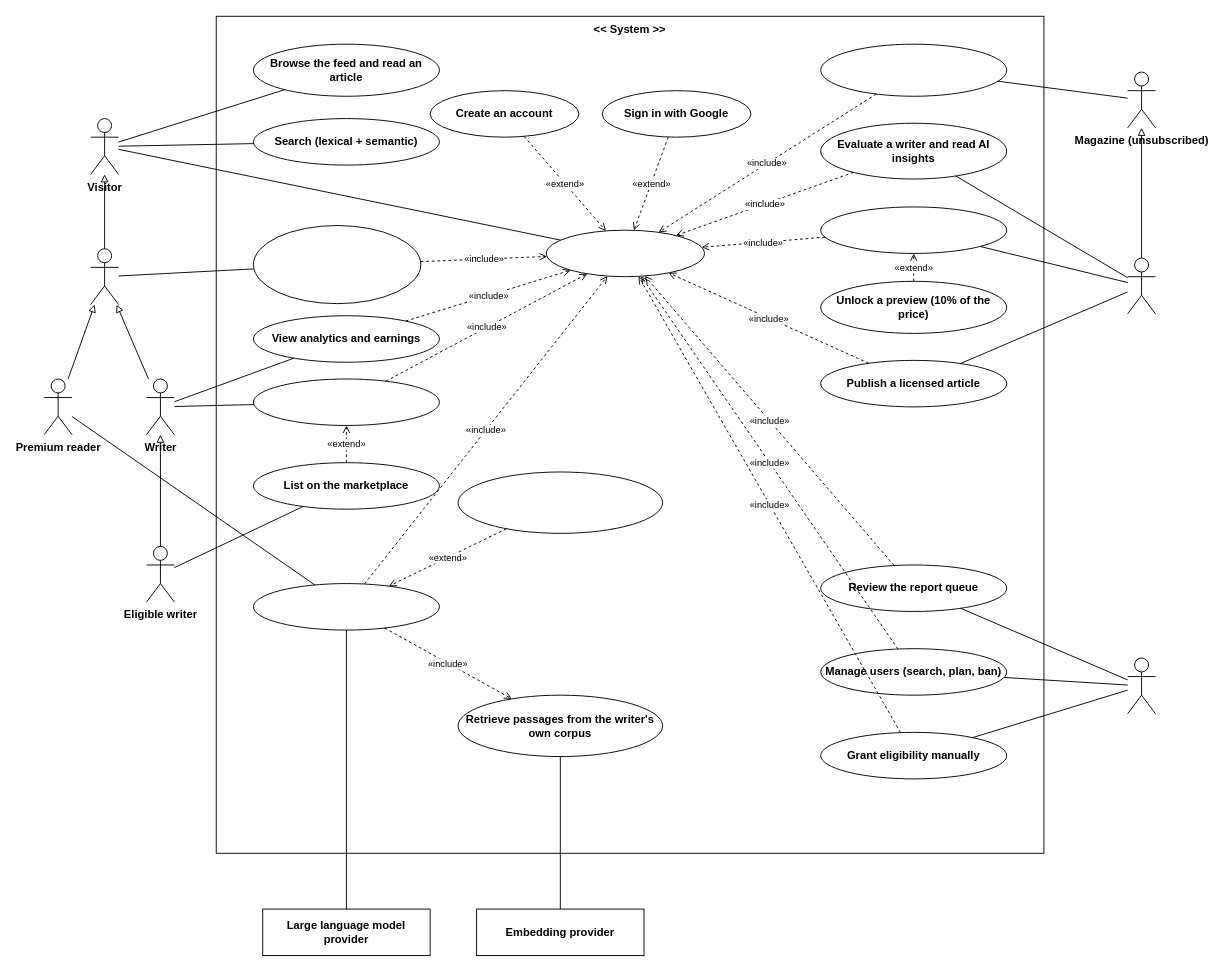
The diagram is 1225 pixels wide and 972 high, and some of its shapes have lost their labels. Here are the shapes that lost their labels. From the top down, the box of each, then its label:
(820, 43, 1007, 96): Manage subscription and credits
(820, 206, 1007, 253): Acquire an article
(252, 225, 421, 304): Interact (like, comment, repost, save, follow, block, report)
(545, 229, 704, 277): Sign in
(90, 248, 119, 305): Free reader
(1127, 257, 1156, 314): Magazine (subscribed)
(252, 378, 439, 425): Write and publish an article
(457, 471, 663, 533): Ground answers in uploaded reference documents
(252, 583, 439, 630): Use the AI assistant
(1127, 657, 1156, 714): Administrator
